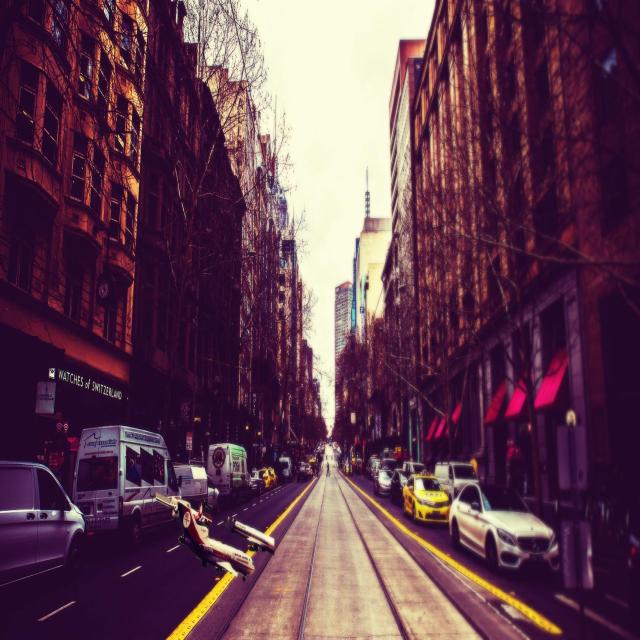airplane: (154, 488, 276, 582)
